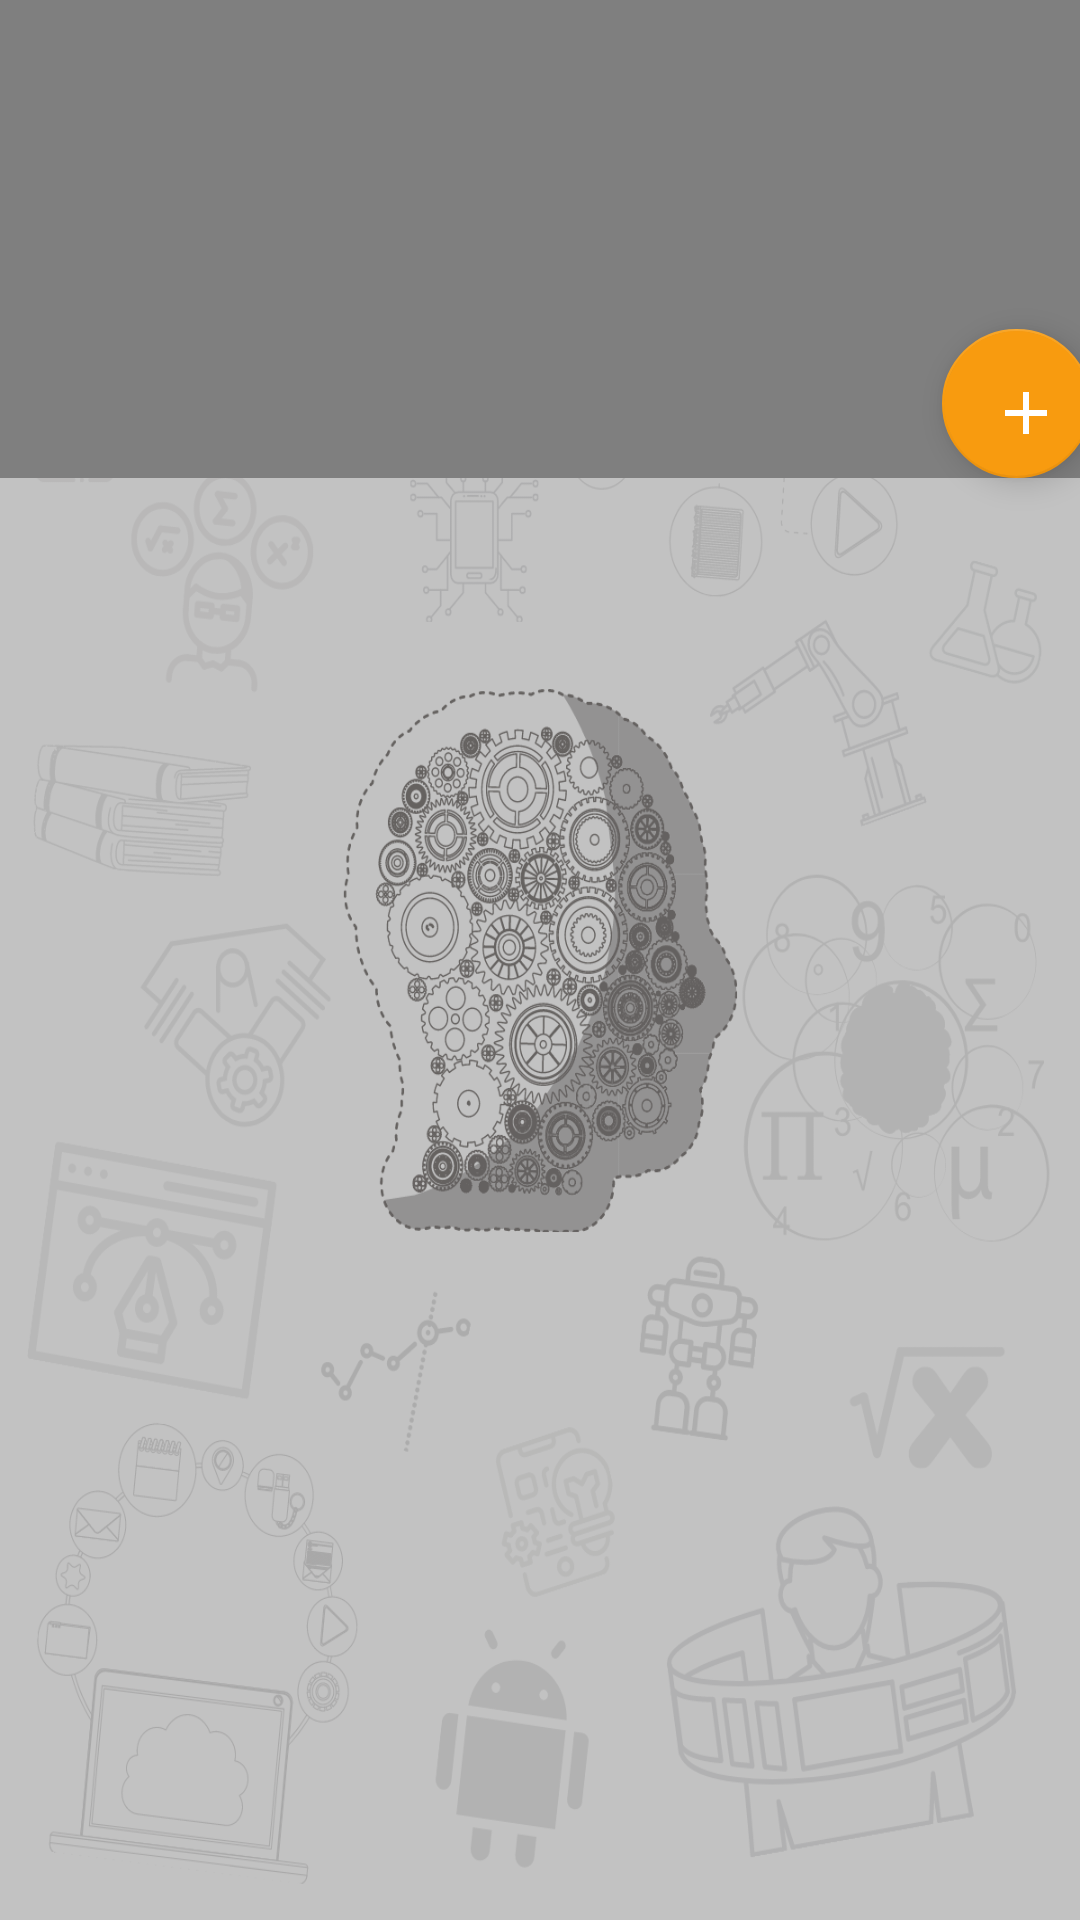

Where to tap for icons on this 1080 × 1920 app screen, as (x,y):
plus: (1011,403)
